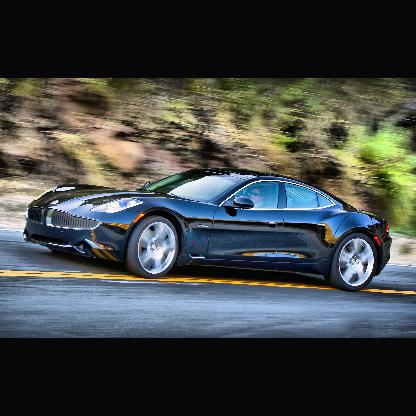Fisker Karma Sedan 2012: (24, 167, 393, 292)
